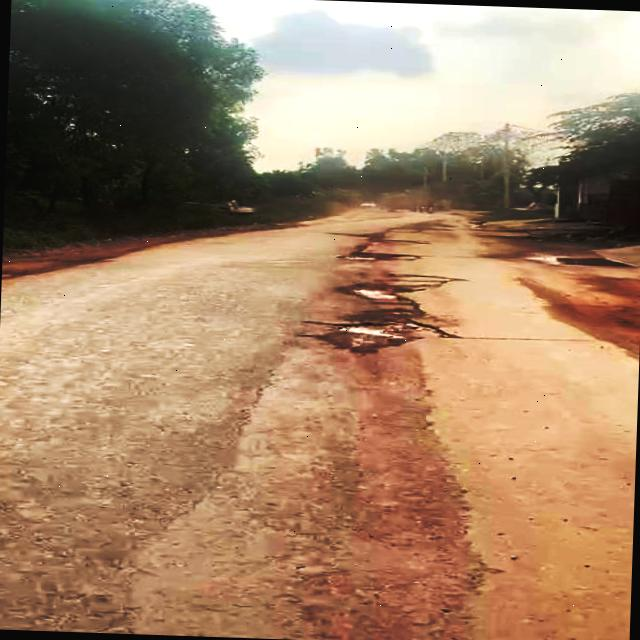pothole: (318, 317, 424, 353), (344, 284, 422, 304)
